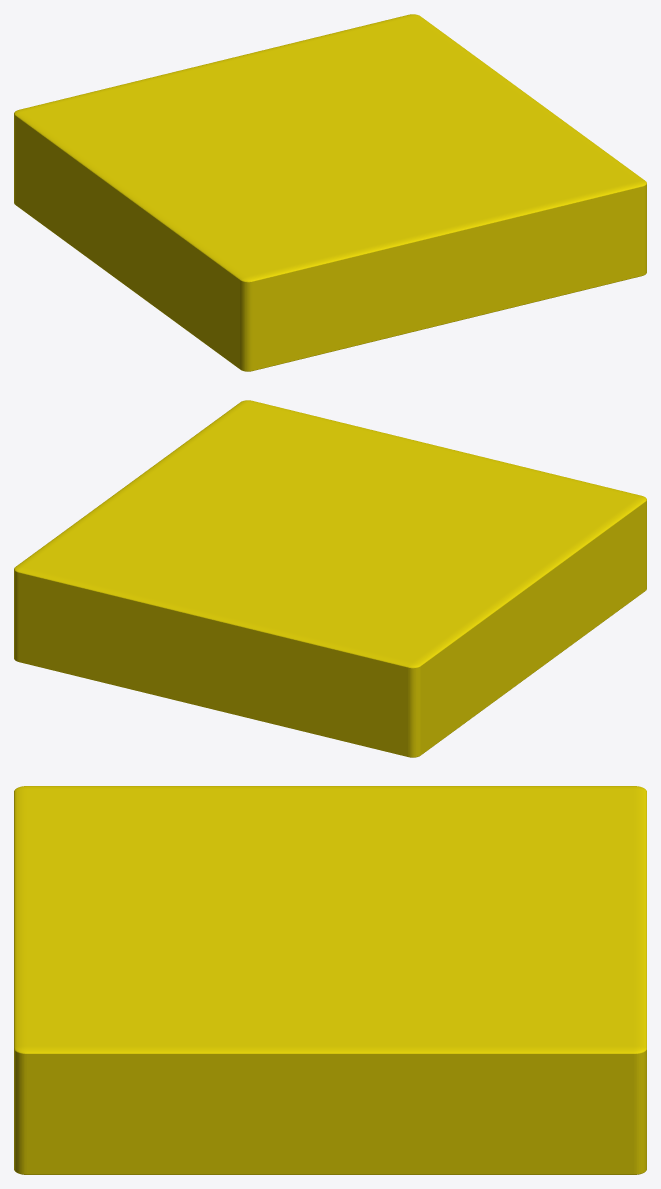
The model's file is jsBg.glb.
3 renders of one model, top to bottom at view 1: azimuth 30°, elevation 25°; view 2: azimuth 150°, elevation 25°; view 3: azimuth 270°, elevation 25°, orthographic. The views are drawn at different scales.
Parts seen in each view (by area): view 1: js; view 2: js; view 3: js.
Boxes of the visible parts, bbox=[...] form: js: bbox=[14, 14, 646, 371]; js: bbox=[14, 400, 646, 757]; js: bbox=[14, 786, 646, 1174].
Bounding box in the file's own units: 2 × 0.437 × 2.
